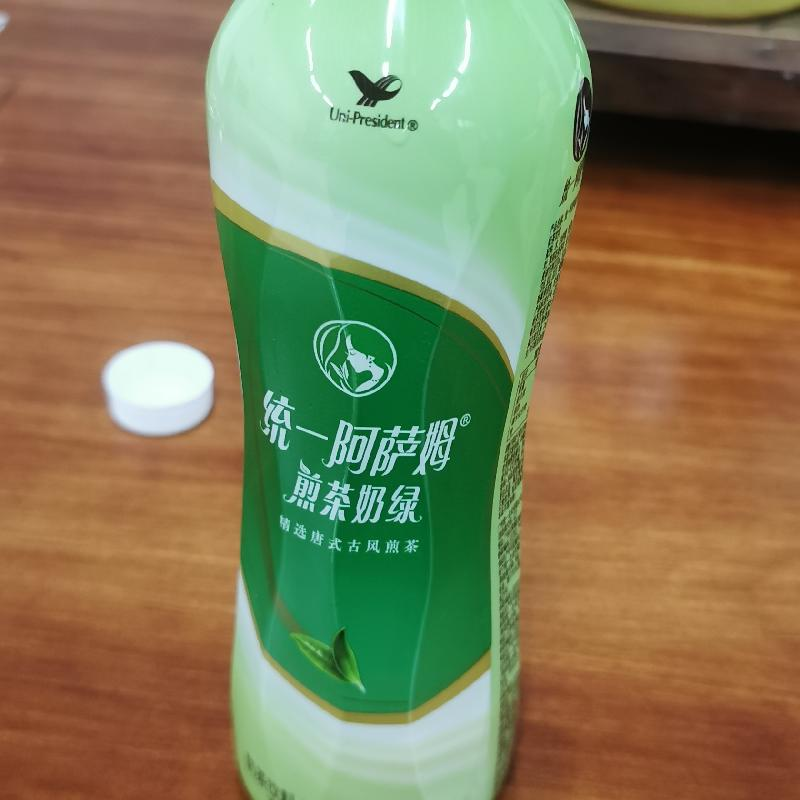bottles: (190, 8, 598, 799)
